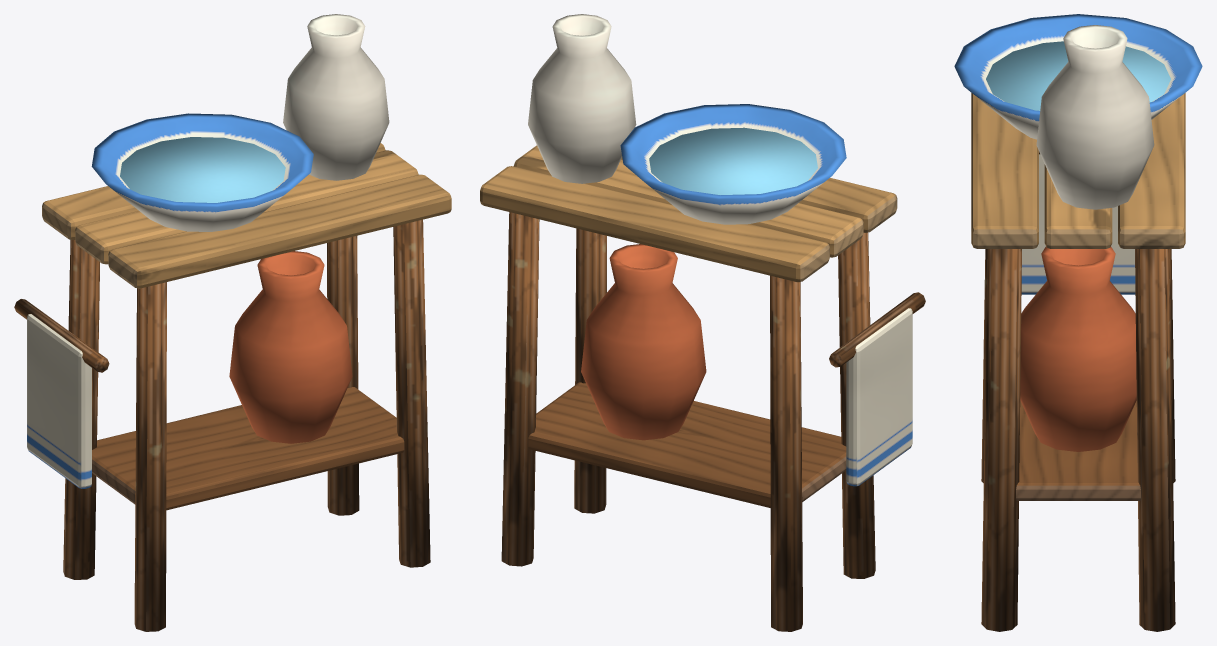
Rendered from wash_stand.glb.
3 views of the same model, side by side, from view 1: azimuth 30°, elevation 25°; view 2: azimuth 150°, elevation 25°; view 3: azimuth 270°, elevation 25° (orthographic). The views are drawn at different scales.
Parts seen in each view (by area): view 1: WashStand; view 2: WashStand; view 3: WashStand.
Part boxes in pixels (x1,y1,x2,y2): WashStand: (14,14,451,631); WashStand: (480,14,925,631); WashStand: (954,14,1202,631).
Bounding box in the file's own units: 0.8 × 1.11 × 0.44.
Materials: 1 (1 with a texture image).
